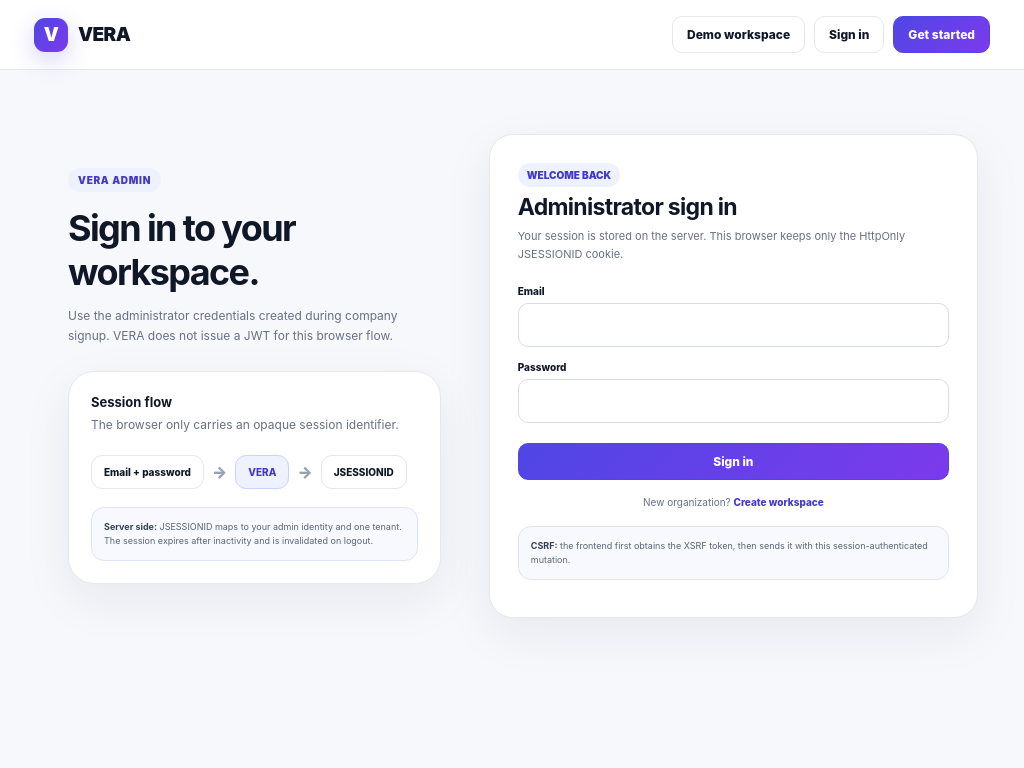
login failure shows generic error
Type "ops@example.com" into the field labelled "Email". click: (733, 325)
box: [518,303,949,347]
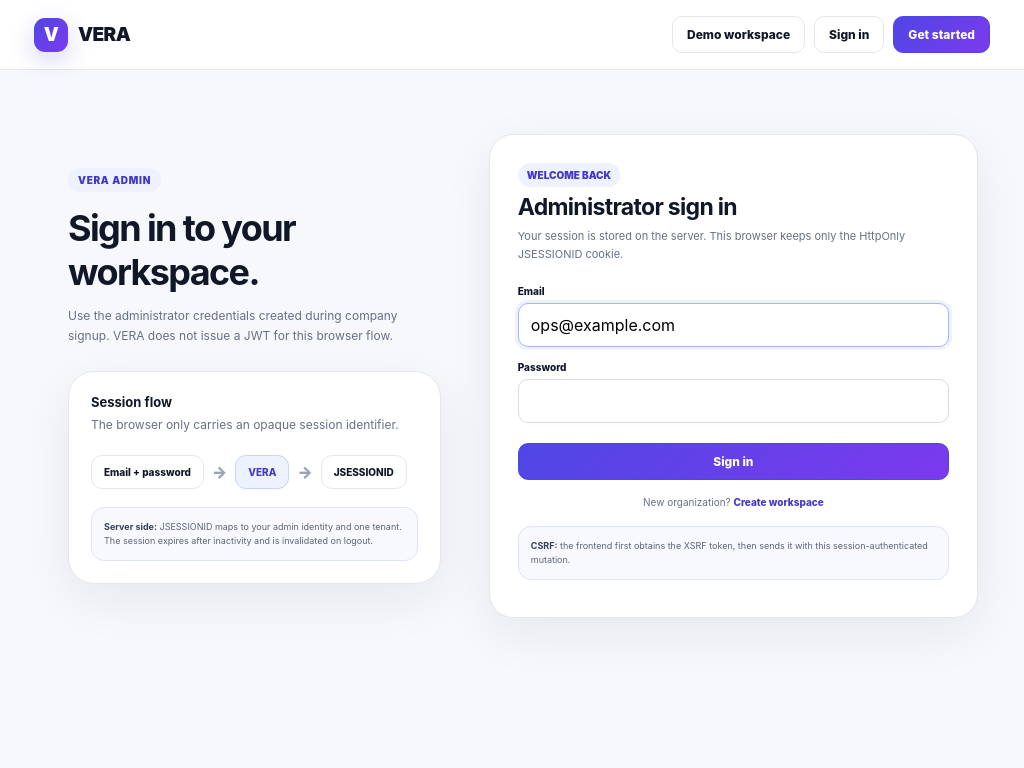
Type "wrong-password-1" into the password field labelled "Password". click: (733, 401)
box: [518,379,949,423]
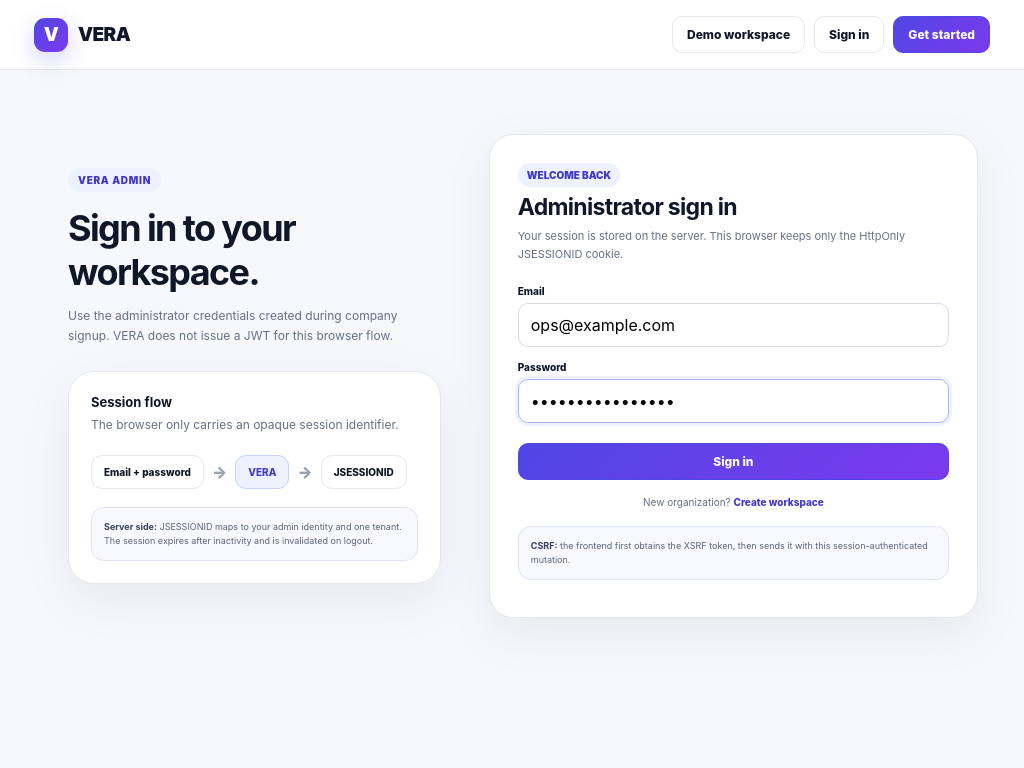
Click the button "Sign in". click: (733, 462)
box: [518,443,949,480]
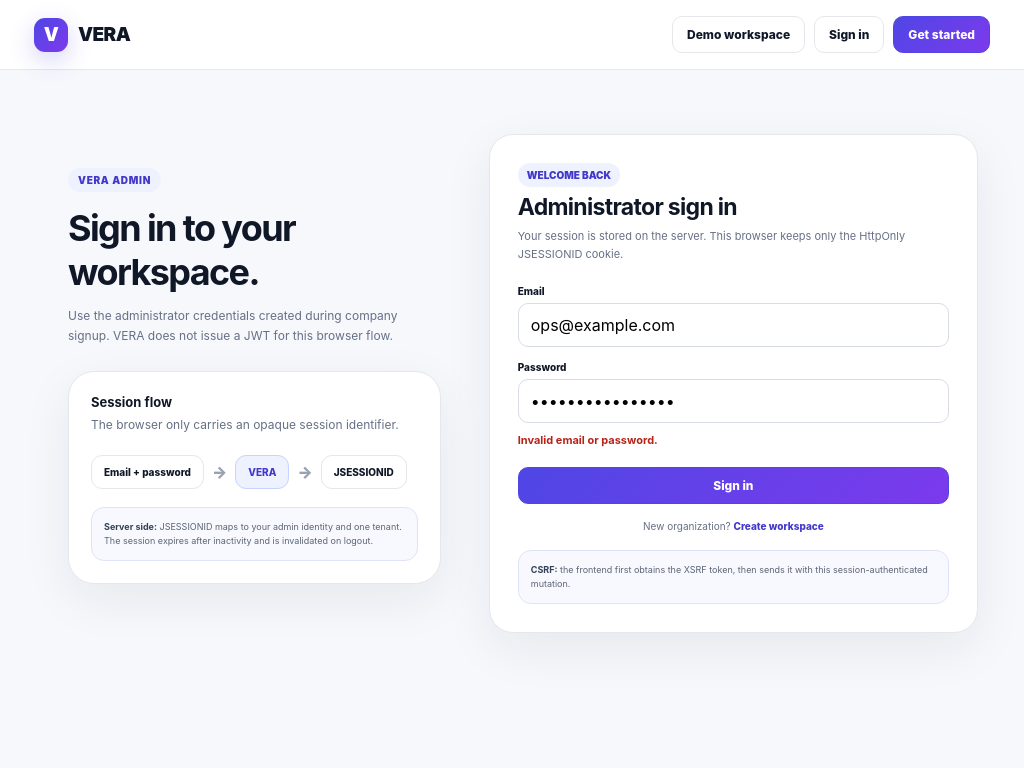
Expected: the text "Invalid email or password." is shown, [518,433,658,447]
